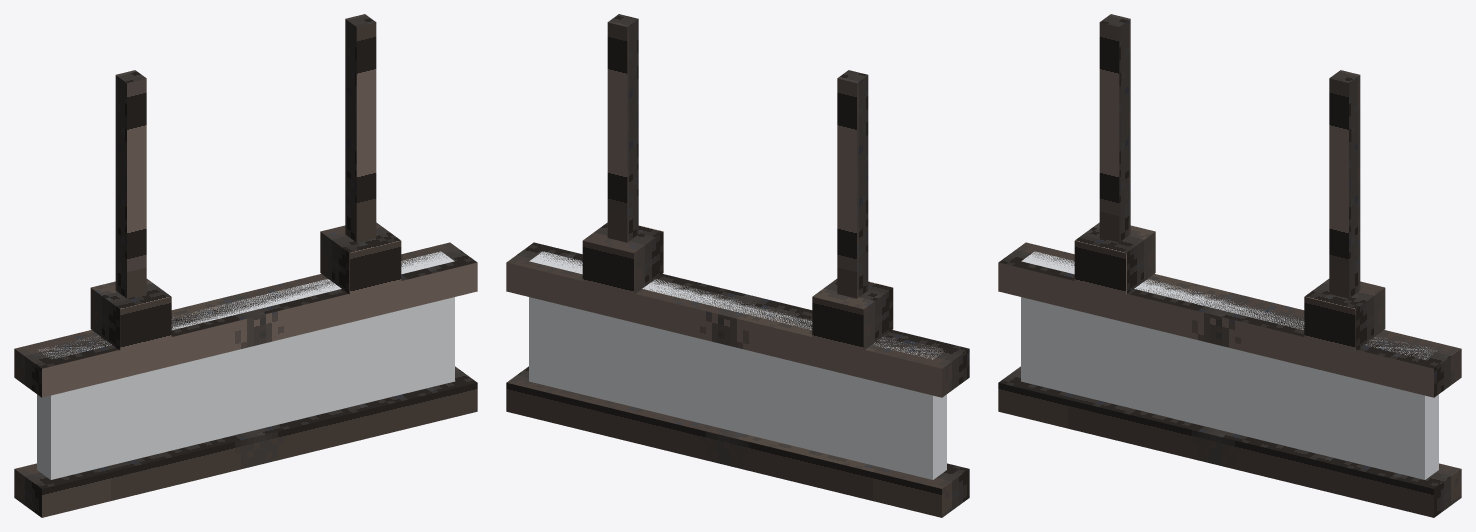
The model's file is nav_hanger.glb.
The picture shows the model from 3 angles, left to right: view 1: azimuth 30°, elevation 25°; view 2: azimuth 150°, elevation 25°; view 3: azimuth 330°, elevation 25°; orthographic projection.
Parts seen in each view (by area): view 1: nav_hanger; view 2: nav_hanger; view 3: nav_hanger.
Boxes of the visible parts, left/top/right/bottom form: nav_hanger: left=14, top=14, right=477, bottom=517; nav_hanger: left=506, top=14, right=969, bottom=517; nav_hanger: left=998, top=14, right=1461, bottom=517.
Bounding box in the file's own units: 1.1 × 0.98 × 0.13.
7 materials, 6 textured.
